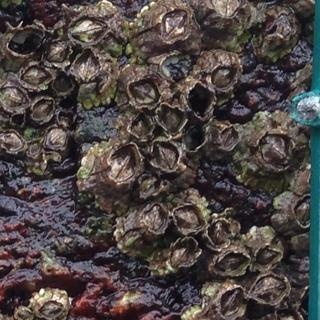Barnacle: (108, 143, 139, 183), (260, 134, 290, 169), (72, 17, 105, 46), (253, 276, 285, 304), (161, 8, 189, 40), (168, 238, 196, 269), (218, 287, 245, 317), (73, 52, 99, 80), (174, 205, 202, 230), (158, 105, 182, 134), (153, 142, 178, 169), (44, 39, 71, 64), (129, 110, 152, 139), (132, 79, 158, 104), (39, 297, 67, 320), (207, 219, 230, 247), (144, 203, 166, 232), (217, 252, 246, 273), (43, 125, 67, 150), (0, 85, 25, 109), (210, 0, 240, 20), (23, 66, 49, 88), (293, 196, 313, 224), (0, 129, 22, 154), (211, 67, 236, 89), (31, 99, 54, 122), (254, 246, 277, 267), (221, 123, 238, 147), (14, 307, 33, 320)
